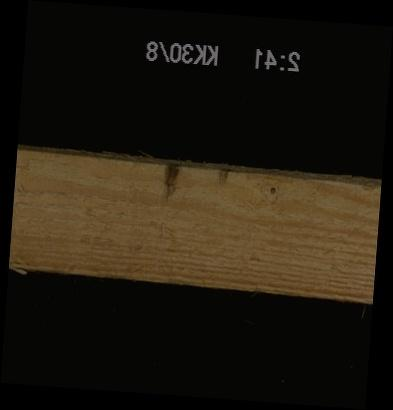small_knot: (265, 179, 280, 197)
